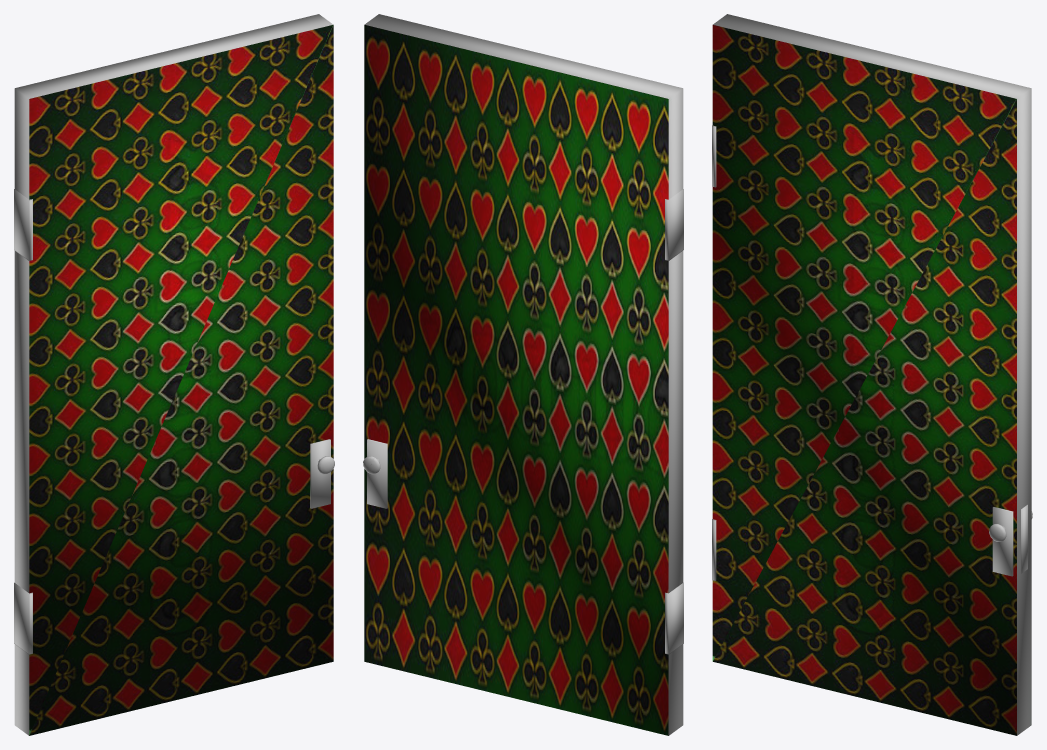
File: door_card.FBX
3 renders of one model, left to right at view 1: azimuth 30°, elevation 25°; view 2: azimuth 150°, elevation 25°; view 3: azimuth 330°, elevation 25°, orthographic.
Parts seen in each view (by area): view 1: DOORS_Static_Court_Wooden_192x384; view 2: DOORS_Static_Court_Wooden_192x384; view 3: DOORS_Static_Court_Wooden_192x384.
Part boxes in pixels (<box>): DOORS_Static_Court_Wooden_192x384: <box>14,14,334,735</box>; DOORS_Static_Court_Wooden_192x384: <box>363,14,683,735</box>; DOORS_Static_Court_Wooden_192x384: <box>712,14,1032,735</box>.
Bounding box in the file's own units: 20.72 × 41.33 × 3.62.
